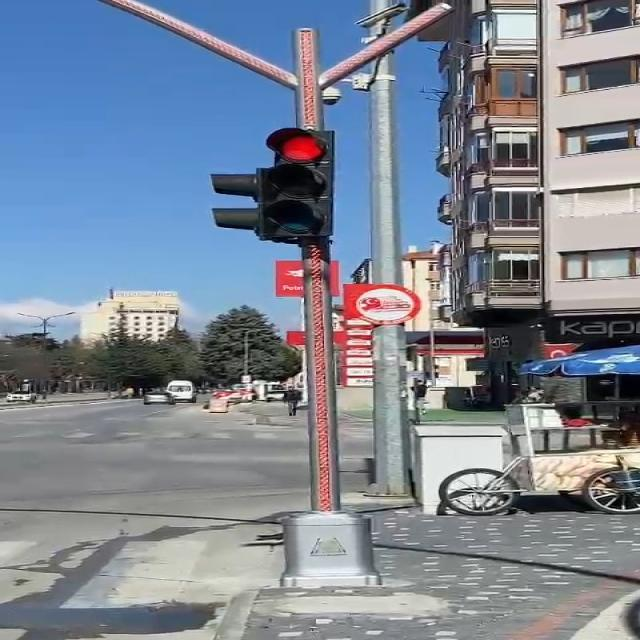kirmizi: (256, 127, 334, 244)
